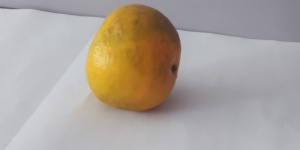BAD: (86, 5, 181, 111)
